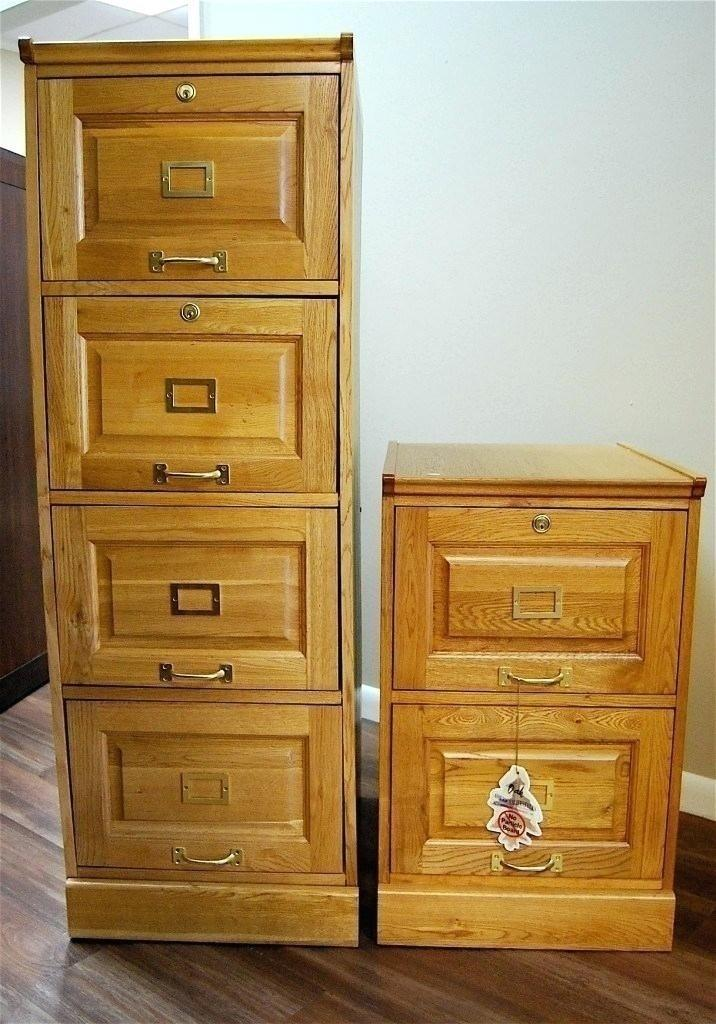cabinet_door: (47, 303, 334, 498), (392, 502, 676, 693), (57, 518, 335, 701), (391, 702, 667, 885), (67, 697, 336, 873), (54, 113, 329, 283)
handle: (169, 837, 245, 878), (154, 452, 231, 492), (148, 242, 230, 279), (158, 656, 235, 693), (502, 660, 570, 692), (499, 848, 561, 881)
